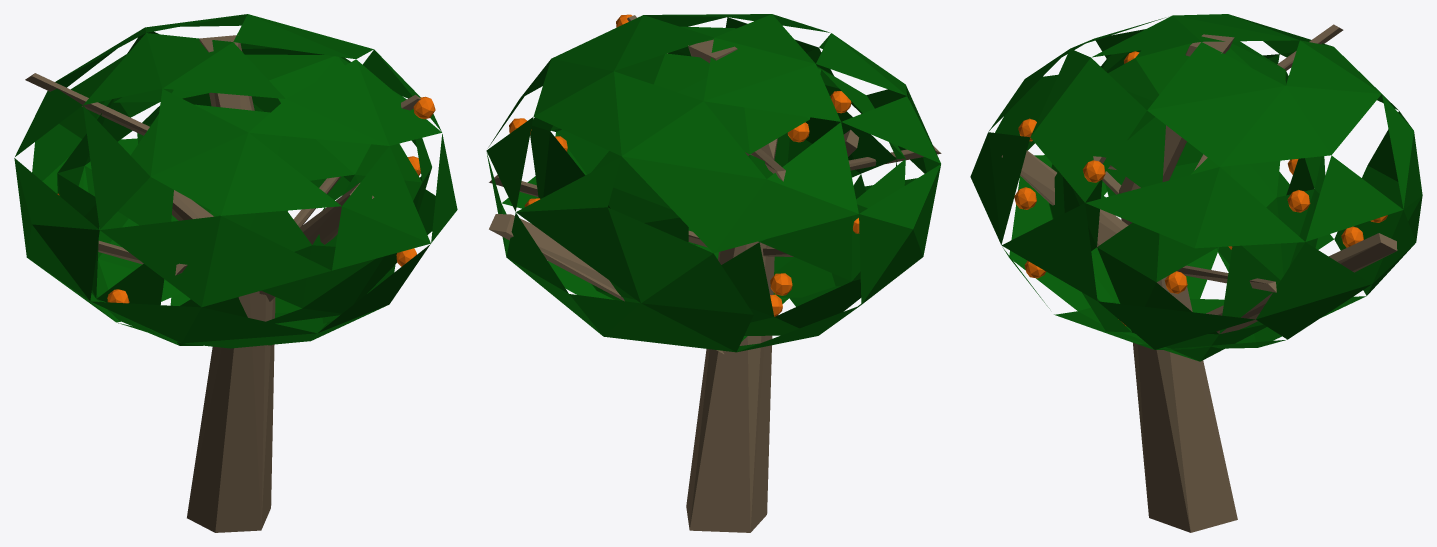
File: Orange Tree.glb
The picture shows the model from 3 angles, left to right: view 1: azimuth 30°, elevation 25°; view 2: azimuth 150°, elevation 25°; view 3: azimuth 270°, elevation 25°; orthographic projection. The views are drawn at different scales.
Parts seen in each view (by area): view 1: Orange Tree.001; view 2: Orange Tree.001; view 3: Orange Tree.001.
Boxes of the visible parts, bbox=[...] form: Orange Tree.001: bbox=[14, 14, 457, 532]; Orange Tree.001: bbox=[486, 14, 941, 532]; Orange Tree.001: bbox=[970, 14, 1422, 532].
Size of what is drawn, in the model's own units: 3.89 by 4.46 by 3.85.
